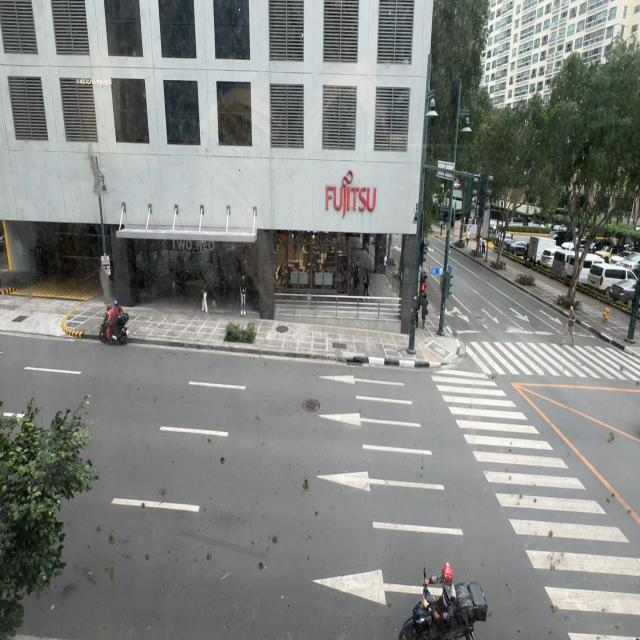crossing: (562, 305, 576, 348), (564, 302, 576, 351)
